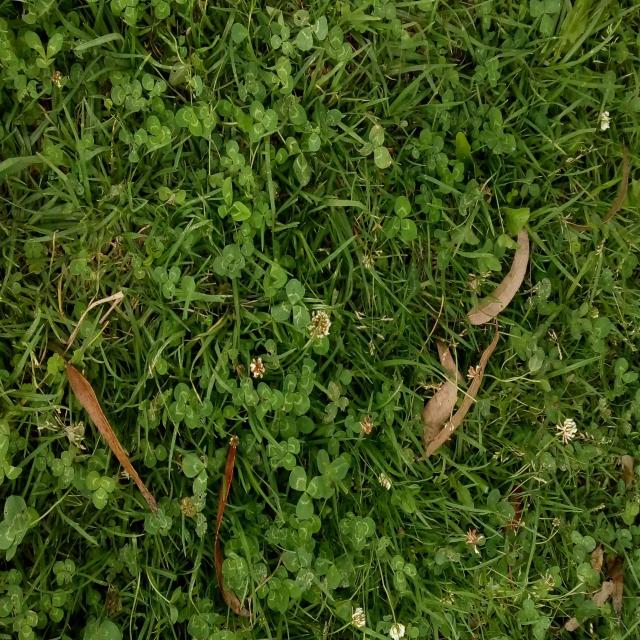Four Leaf Clover: (52, 558, 76, 586)
